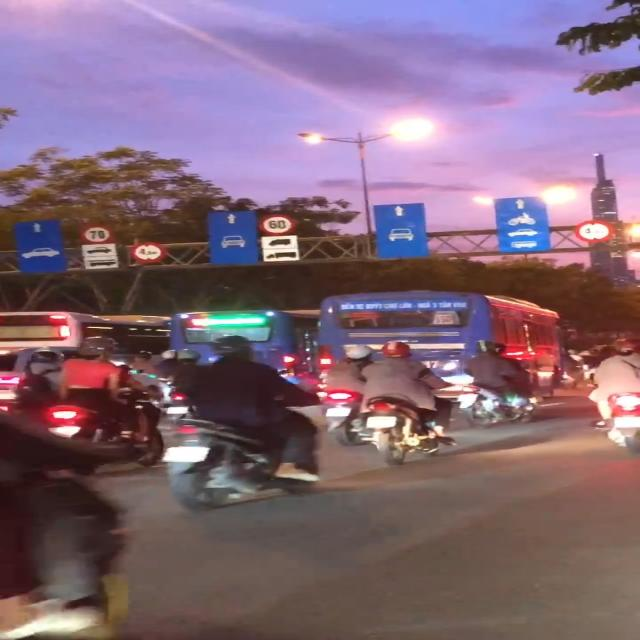Bien bao han che chieu cao: (129, 240, 169, 266)
Bien bao toc do toi da cho phep: (76, 221, 120, 246), (258, 214, 294, 235)
